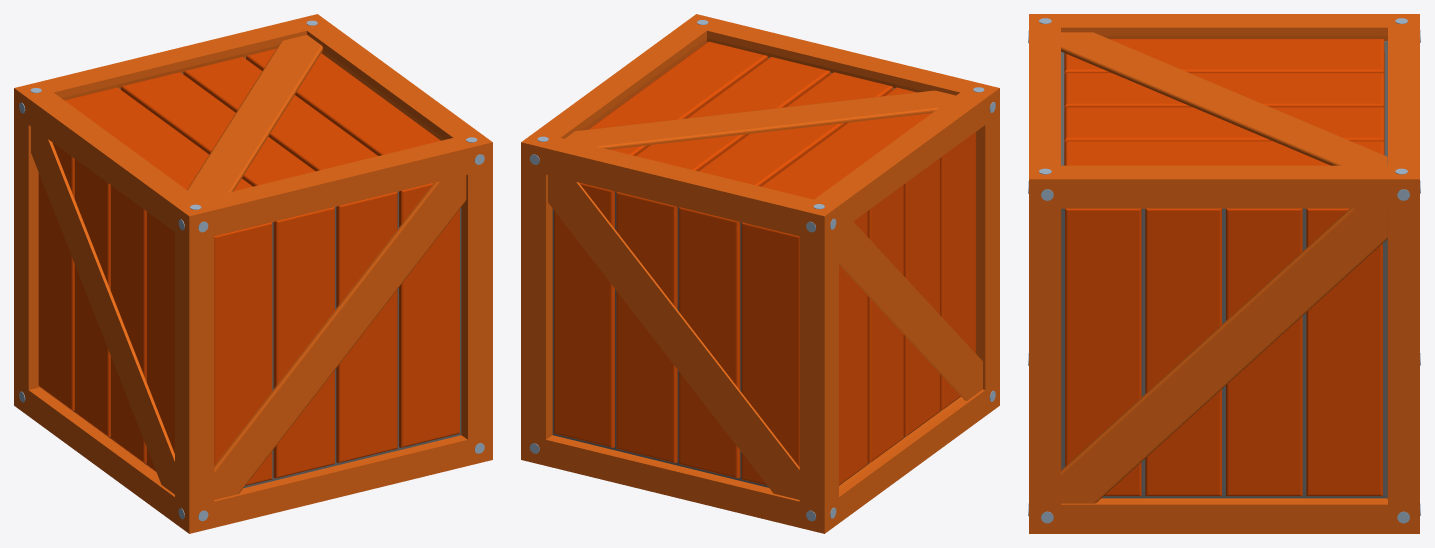
File: 4x1 kutija final.fbx
The picture shows the model from 3 angles, left to right: view 1: azimuth 30°, elevation 25°; view 2: azimuth 150°, elevation 25°; view 3: azimuth 270°, elevation 25°; orthographic projection. The views are drawn at different scales.
Visible parts, largest first — view 1: Cube.205; view 2: Cube.205; view 3: Cube.205.
Boxes of the visible parts, left/top/right/bottom form: Cube.205: left=14, top=14, right=492, bottom=533; Cube.205: left=521, top=14, right=999, bottom=533; Cube.205: left=1028, top=14, right=1420, bottom=533.
Size of the model in its own units: 201 by 200 by 201.
